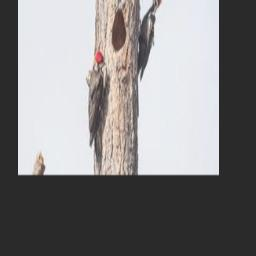Woodpecker: (88, 51, 107, 174), (137, 0, 163, 80)
